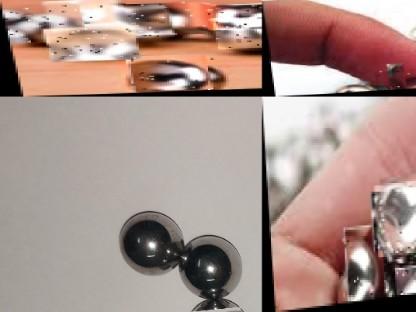ironball: (176, 232, 242, 297), (119, 208, 181, 275), (334, 236, 390, 305), (114, 57, 215, 93), (41, 26, 137, 62), (372, 183, 415, 260), (1, 5, 85, 43), (123, 3, 211, 35), (44, 0, 132, 32), (87, 7, 172, 40), (197, 4, 261, 31), (210, 18, 261, 51), (392, 268, 415, 299), (240, 15, 261, 29)
